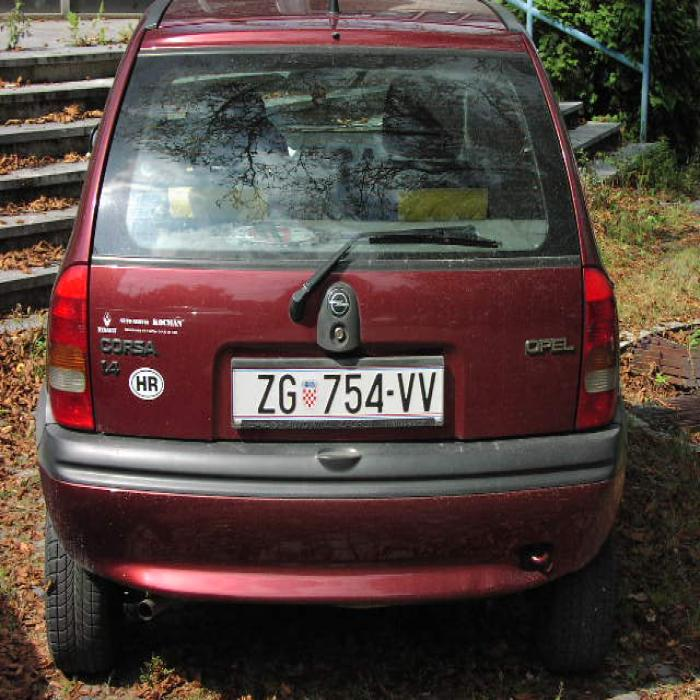number_plate: (231, 366, 442, 414)
